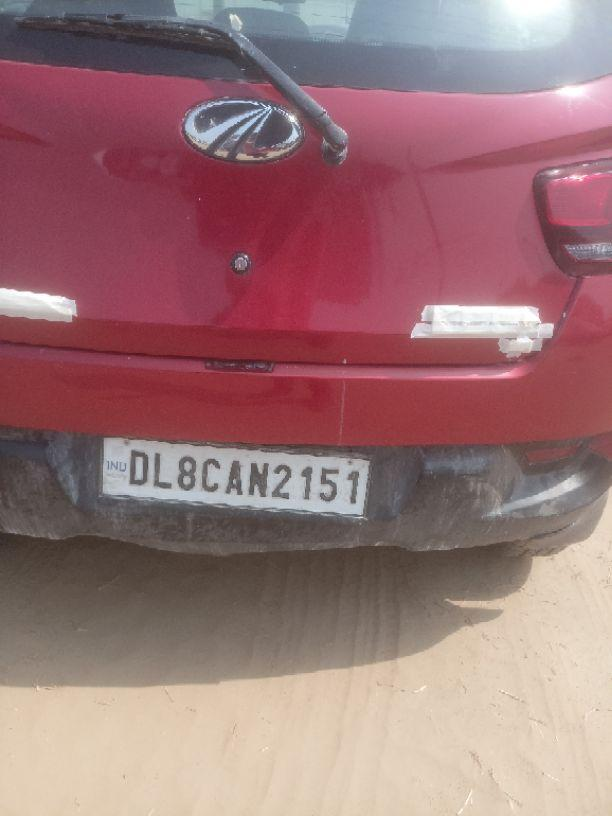license_plate: (97, 434, 373, 520)
